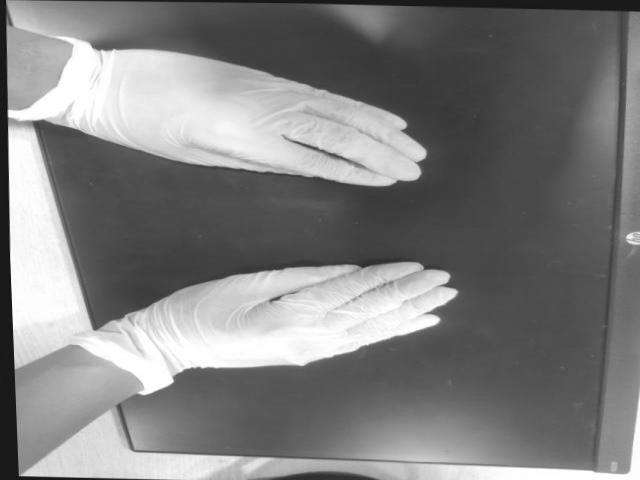gloved: (118, 48, 428, 187), (180, 261, 447, 369)
